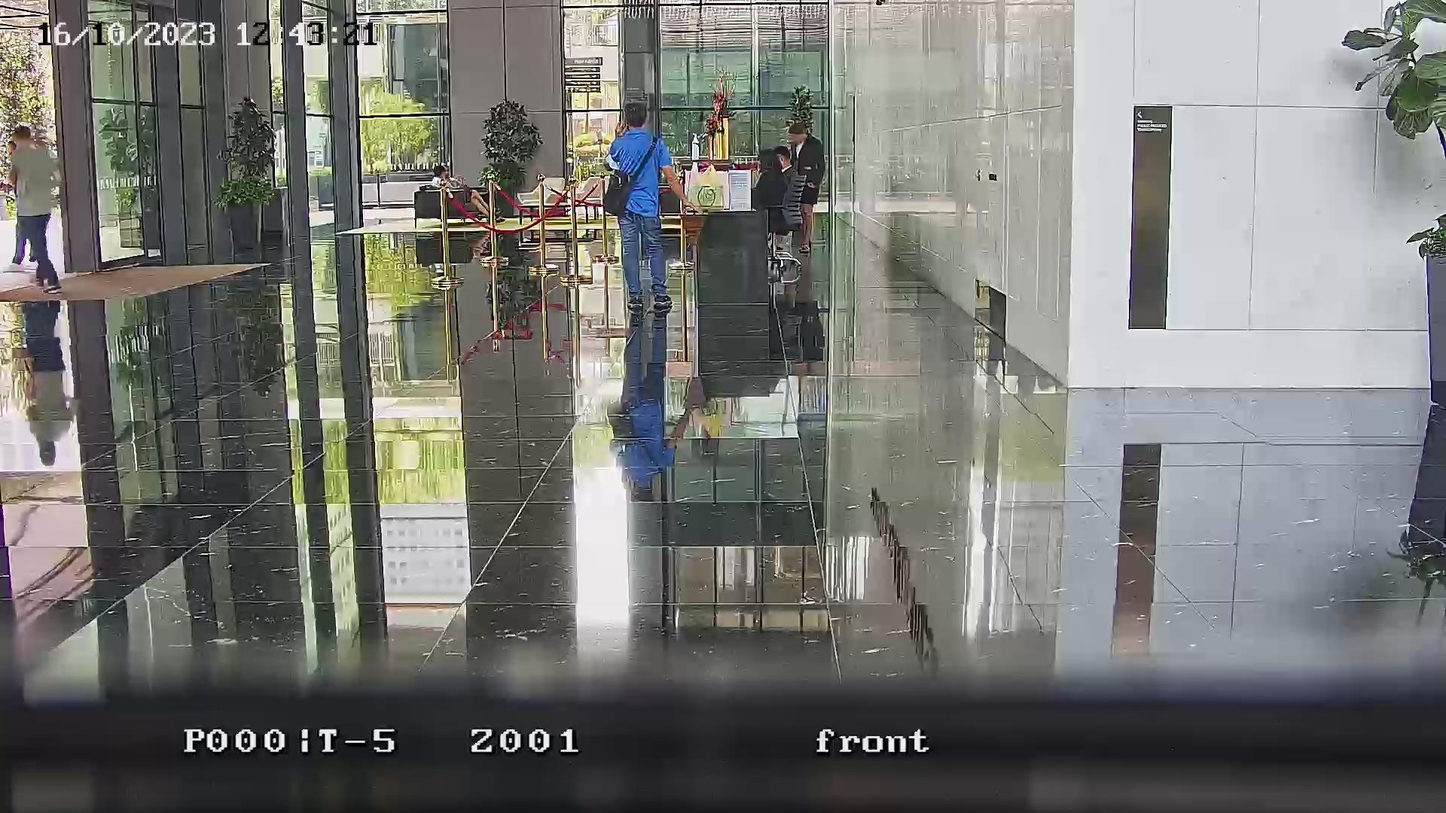person: (604, 94, 685, 322), (6, 123, 63, 291), (789, 122, 825, 253), (432, 165, 506, 225), (752, 149, 786, 220)
